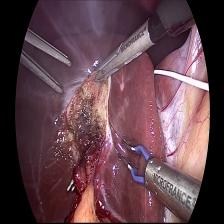Bipolar: (116, 136, 154, 192)
Grasper: (90, 17, 158, 83), (17, 26, 73, 100)
